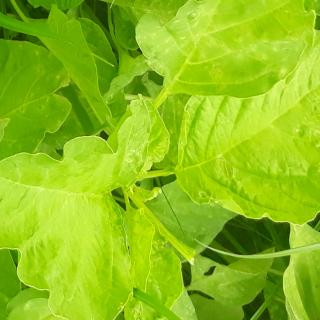virus_keriting: (191, 160, 253, 219), (152, 222, 178, 272), (139, 142, 170, 178), (123, 302, 166, 320)
